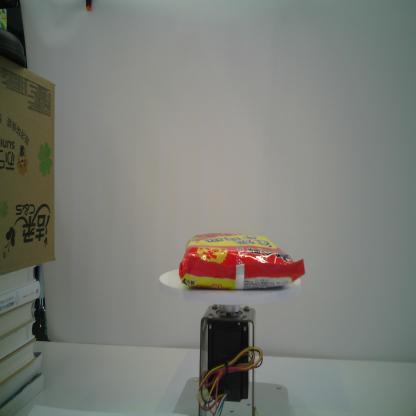Instant Noodles: (178, 231, 306, 292)
